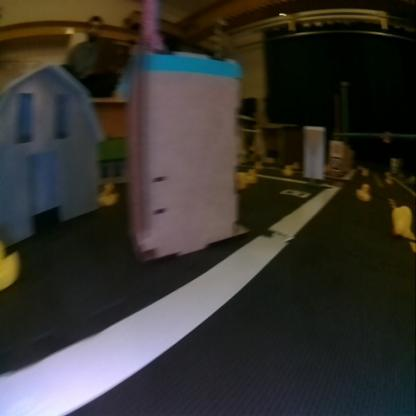Duckie: (0, 238, 20, 291), (392, 204, 411, 236), (98, 183, 118, 205), (356, 184, 370, 202), (283, 165, 292, 175)
QR code: (280, 188, 310, 197), (329, 156, 339, 168)
